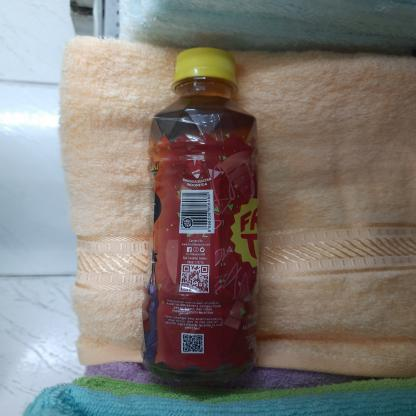bottle: (140, 43, 269, 396)
